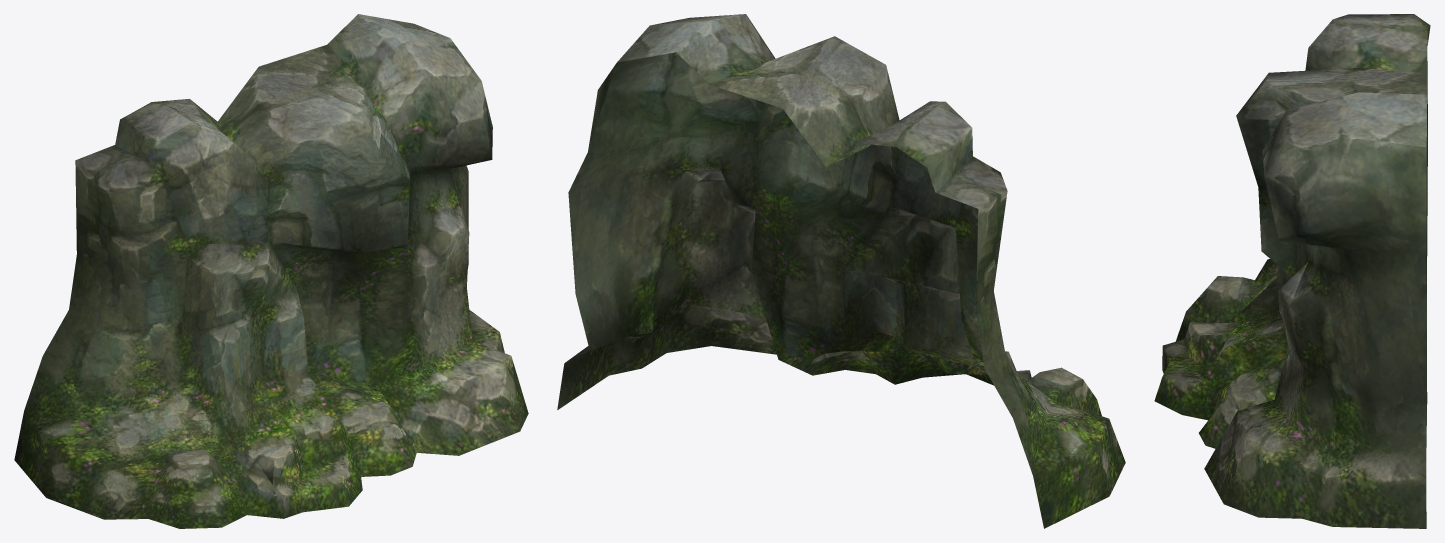
The model's file is S_Rock_Green041.FBX.
3 views of the same model, side by side, from view 1: azimuth 30°, elevation 25°; view 2: azimuth 150°, elevation 25°; view 3: azimuth 270°, elevation 25° (orthographic). The views are drawn at different scales.
Parts seen in each view (by area): view 1: S_Rock_Green041; view 2: S_Rock_Green041; view 3: S_Rock_Green041.
Boxes of the visible parts, <box> form: S_Rock_Green041: <box>14,14,528,528</box>; S_Rock_Green041: <box>557,14,1125,528</box>; S_Rock_Green041: <box>1154,14,1430,528</box>.
Size of the model in its own units: 1925 by 1432 by 939.
